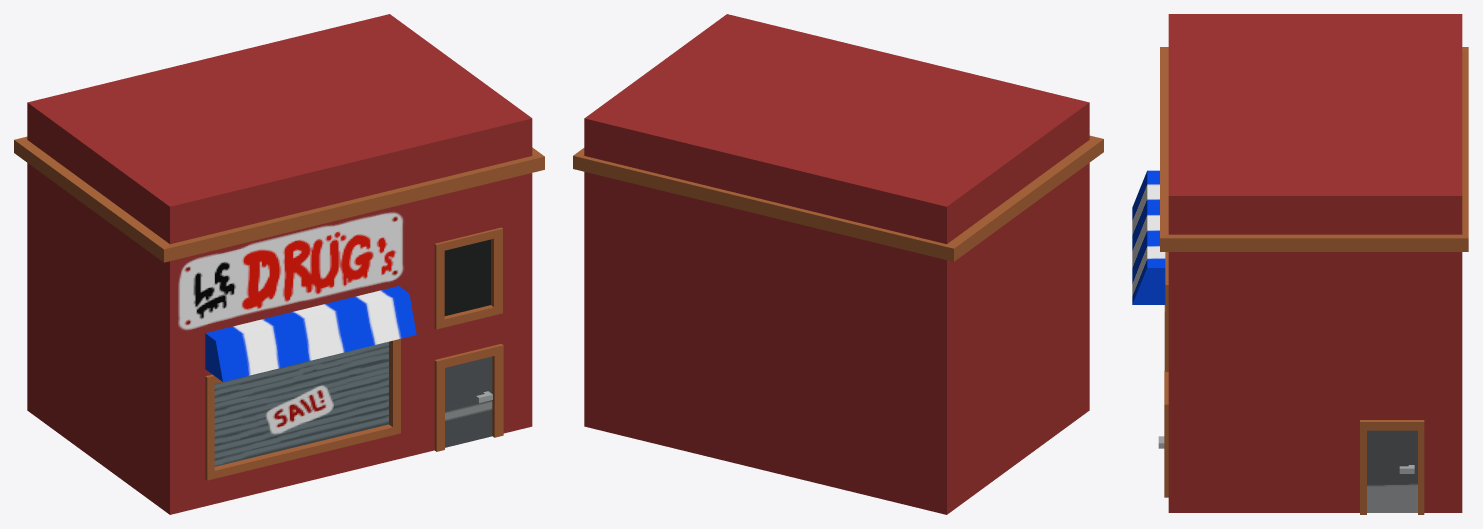
File: Modell.fbx
3 views of the same model, side by side, from view 1: azimuth 30°, elevation 25°; view 2: azimuth 150°, elevation 25°; view 3: azimuth 270°, elevation 25° (orthographic). The views are drawn at different scales.
Visible parts, largest first — view 1: Cube; view 2: Cube; view 3: Cube.
Boxes of the visible parts, x1,y1,x2,y2 form: Cube: (14, 14, 544, 514); Cube: (573, 14, 1103, 514); Cube: (1132, 14, 1468, 514).
Size of the model in its own units: 1811 by 1399 by 1345.
Materials: 1 (1 with a texture image).
